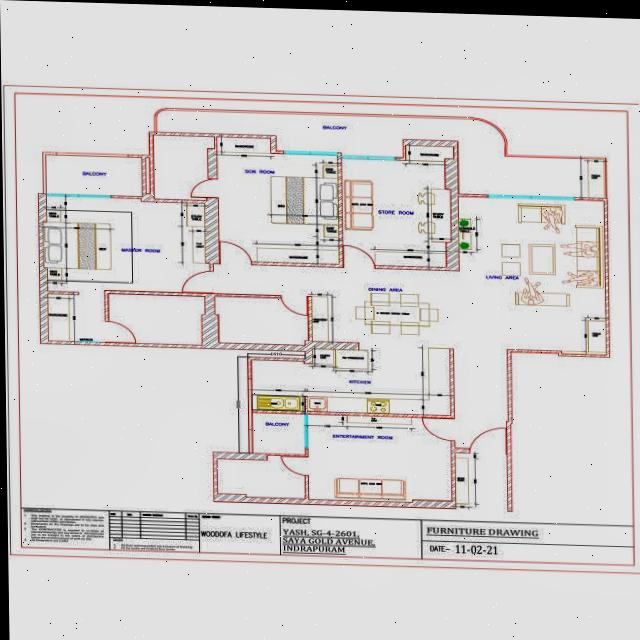room: (155, 110, 608, 198), (447, 196, 610, 355), (44, 199, 211, 293), (218, 136, 339, 265), (339, 143, 453, 267), (250, 348, 454, 415), (306, 415, 456, 504), (311, 267, 453, 348), (47, 292, 206, 345), (215, 296, 309, 344), (45, 155, 144, 197), (216, 454, 307, 499), (152, 134, 215, 197), (251, 412, 306, 454)
